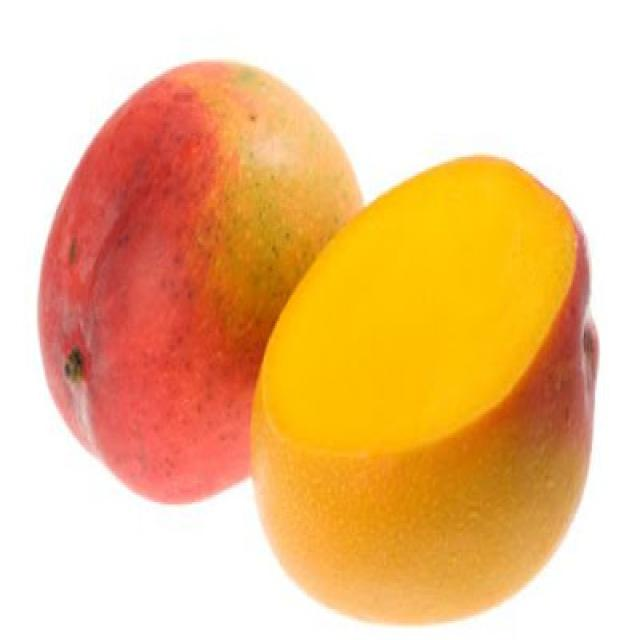mango: (39, 48, 382, 522), (252, 155, 594, 627)
